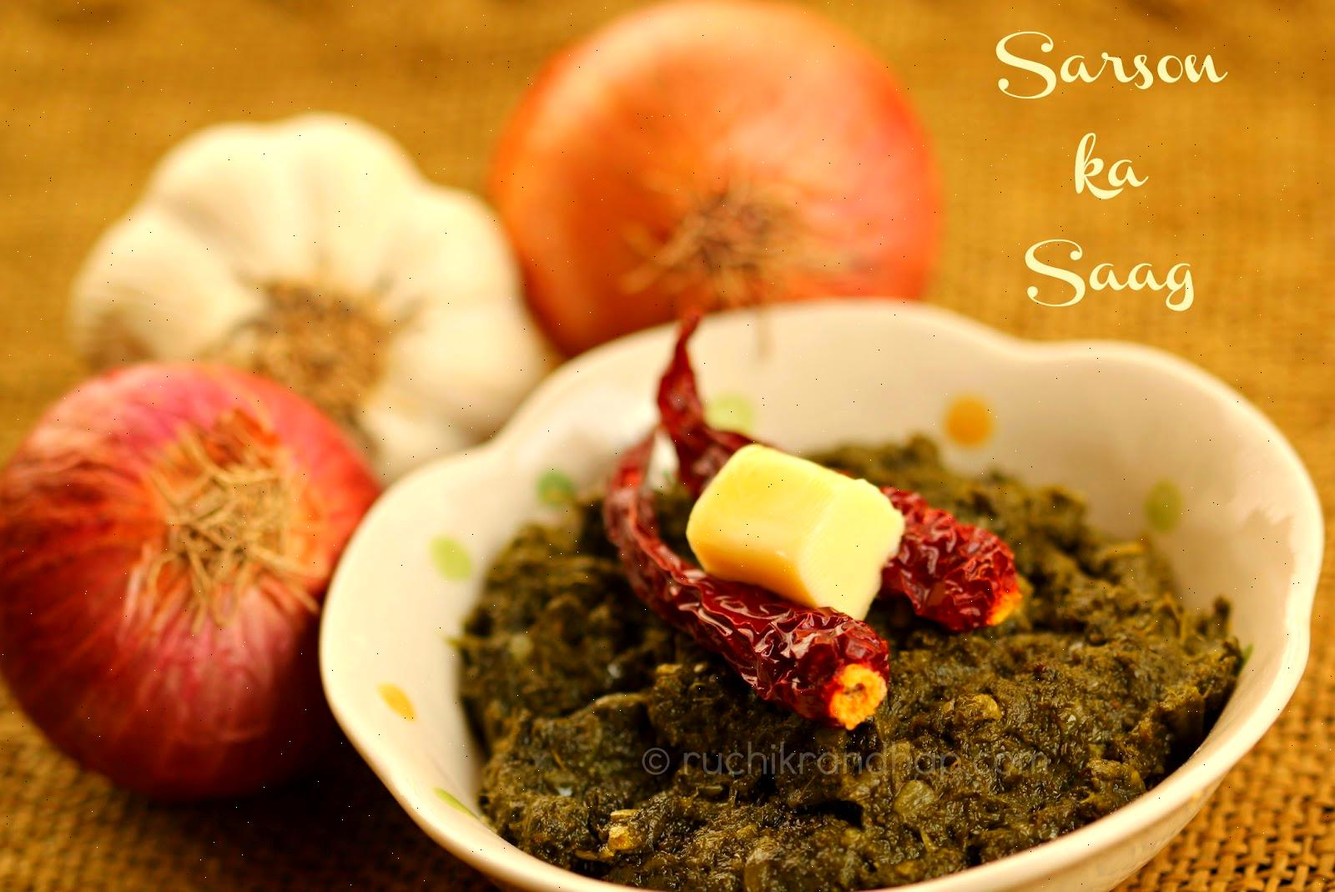saag: (466, 406, 1244, 878)
